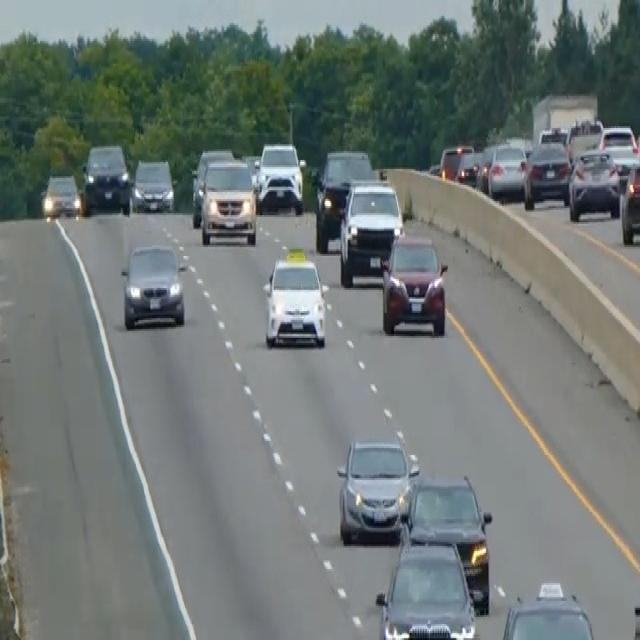car: (401, 471, 492, 613), (374, 537, 476, 638), (336, 434, 419, 544), (379, 231, 448, 336), (261, 242, 328, 350), (338, 178, 404, 286), (312, 147, 373, 250), (497, 580, 599, 638), (120, 242, 187, 329), (567, 147, 621, 220), (255, 141, 304, 215), (82, 142, 131, 214), (190, 146, 234, 226), (522, 137, 571, 208), (481, 140, 528, 201), (131, 156, 175, 214), (41, 170, 81, 218), (619, 158, 639, 245), (566, 116, 603, 160), (439, 142, 476, 185), (598, 122, 637, 154), (631, 582, 639, 638)
minivan: (199, 157, 258, 247)
